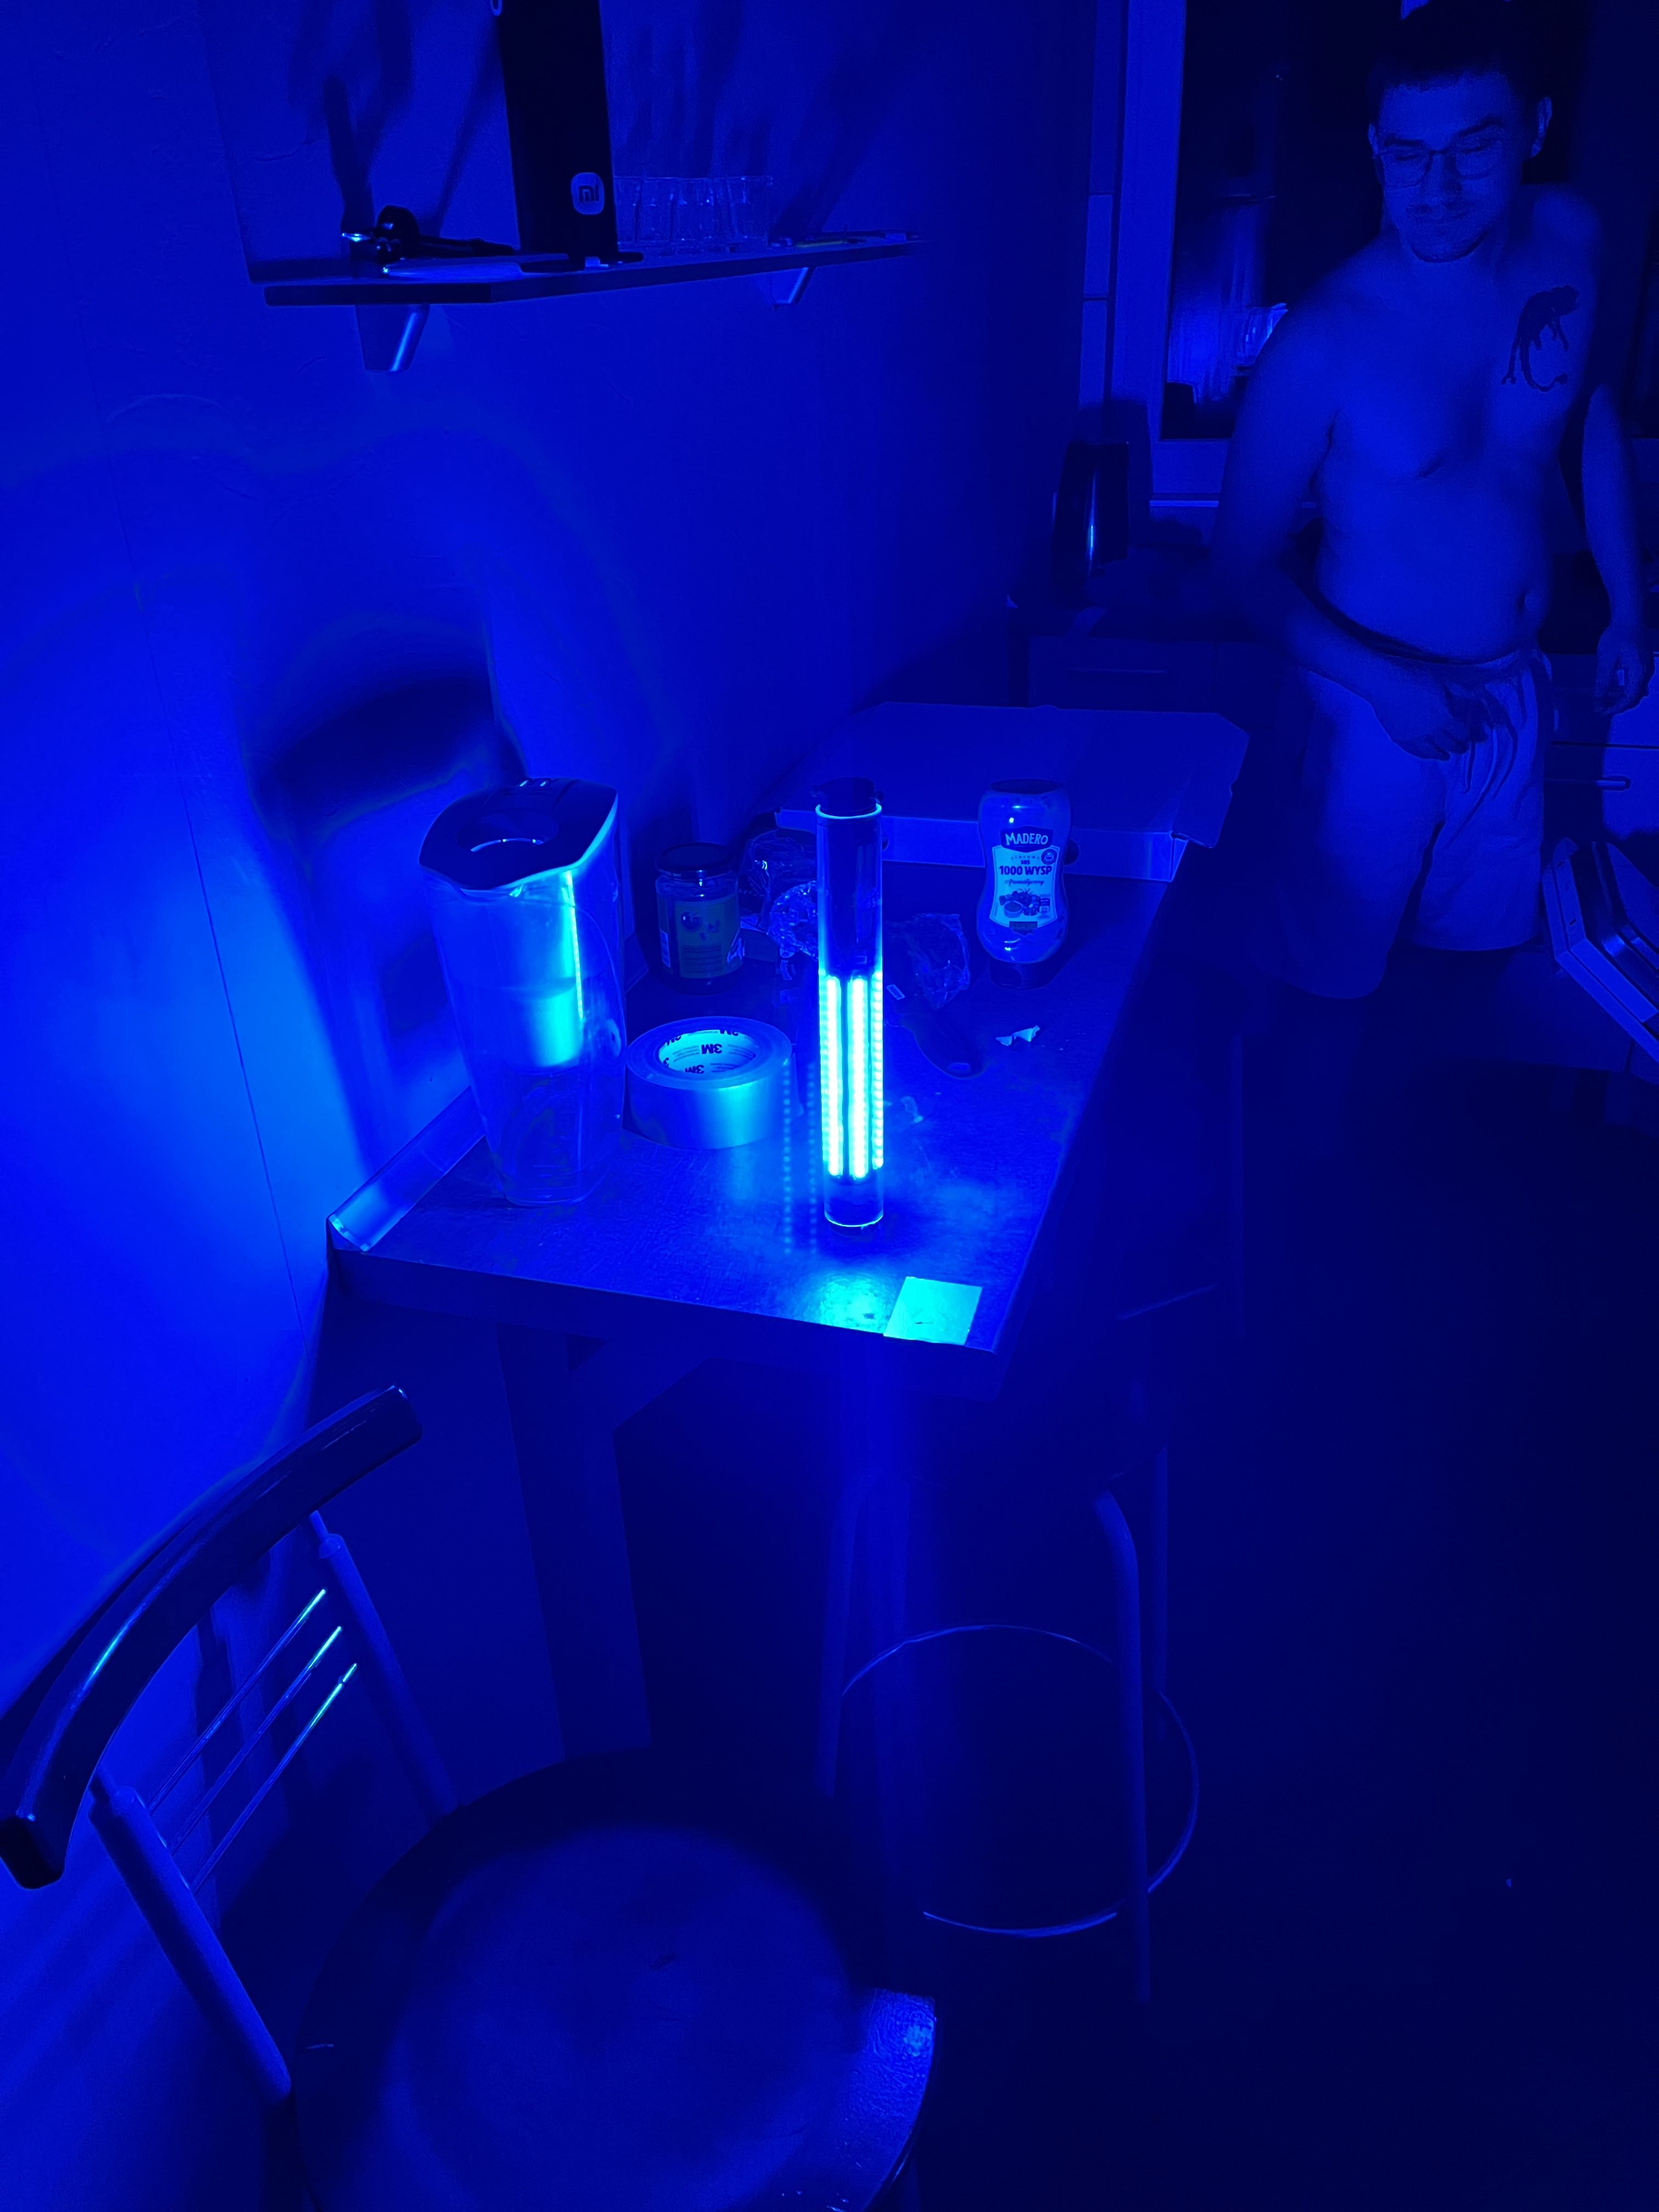blue: (821, 813, 882, 1240)
